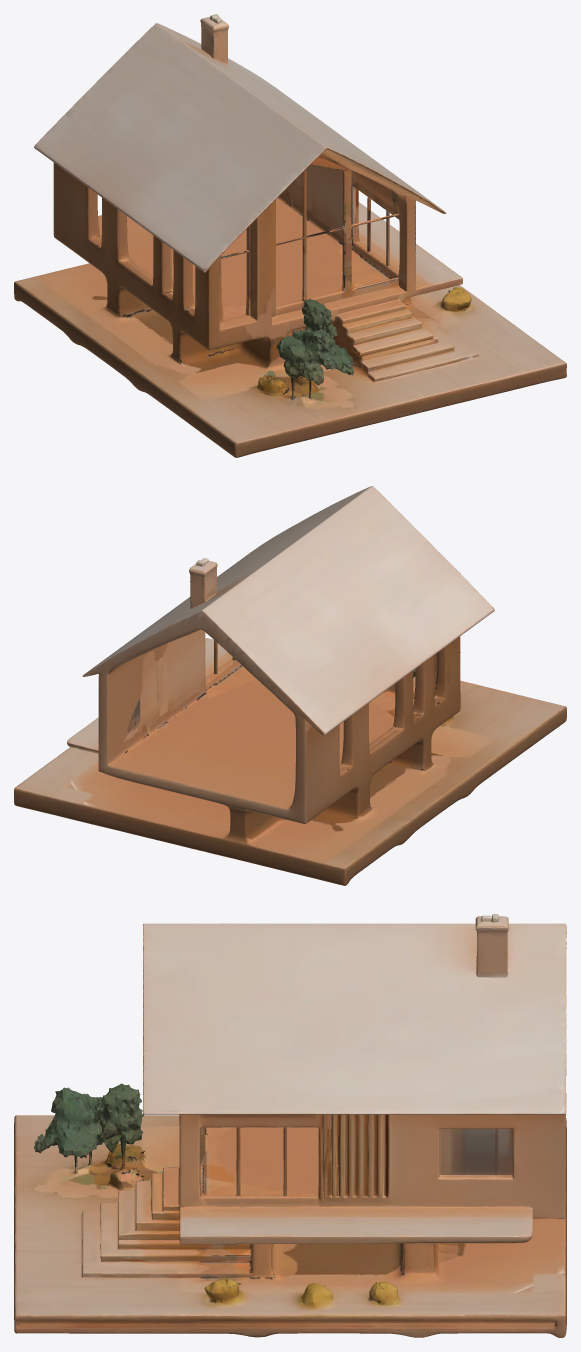
Rendered from house-gable.glb.
The picture shows the model from 3 angles, top to bottom: view 1: azimuth 30°, elevation 25°; view 2: azimuth 150°, elevation 25°; view 3: azimuth 270°, elevation 25°; orthographic projection. The views are drawn at different scales.
Parts seen in each view (by area): view 1: model; view 2: model; view 3: model.
Boxes of the visible parts, box(x1,y1,x2,y2) form: model: box(14, 14, 566, 457); model: box(14, 486, 566, 885); model: box(14, 914, 566, 1337).
Size of the model in its own units: 10.57 by 8 by 12.27.
1 material, 1 textured.
